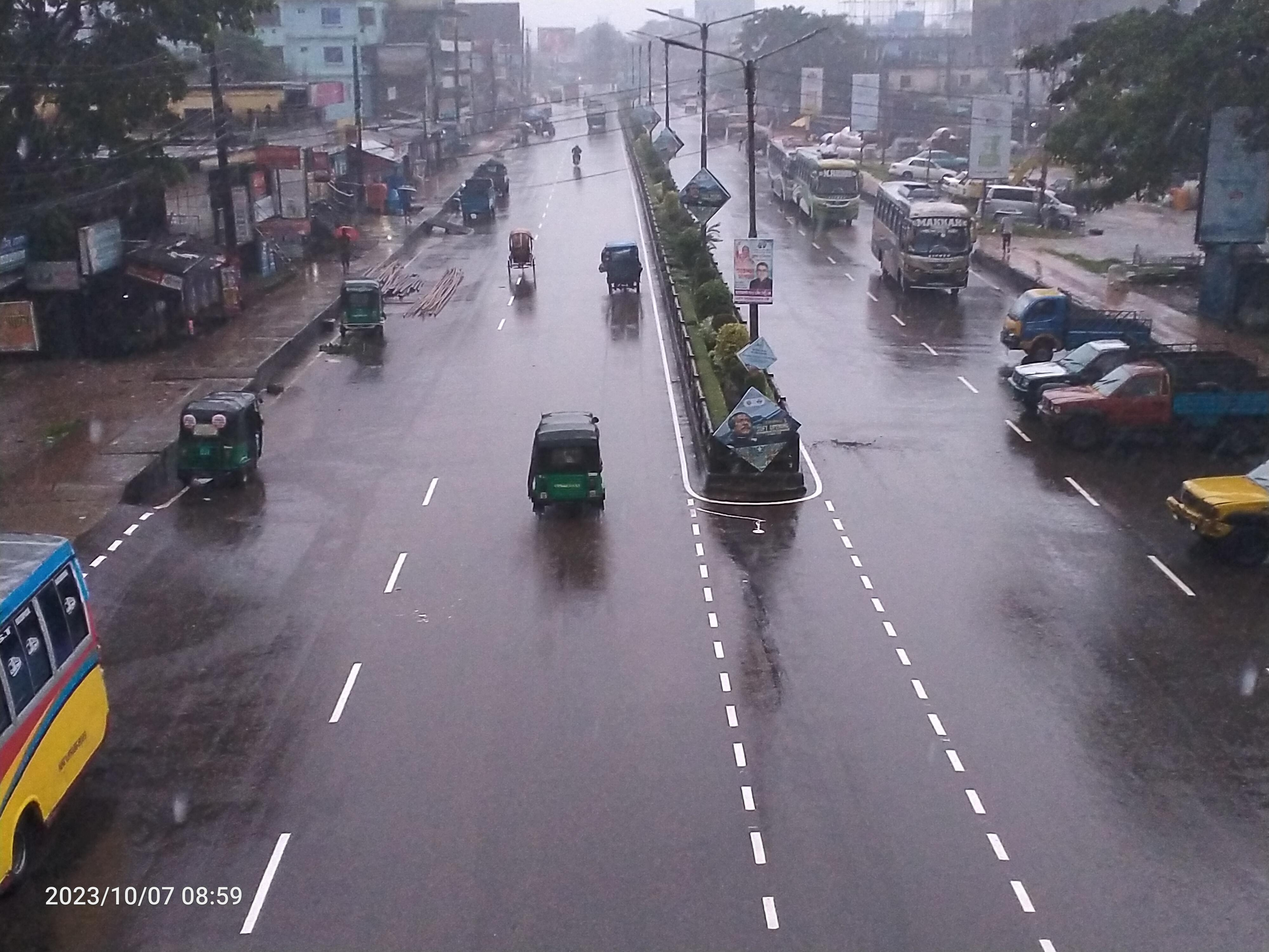Bike: (562, 137, 589, 176)
Bus: (0, 505, 147, 912), (859, 162, 997, 335), (773, 131, 869, 245)
Car: (967, 164, 1092, 246), (502, 217, 541, 293)
Truck: (1024, 343, 1269, 458), (988, 275, 1189, 370), (1144, 417, 1269, 568)
